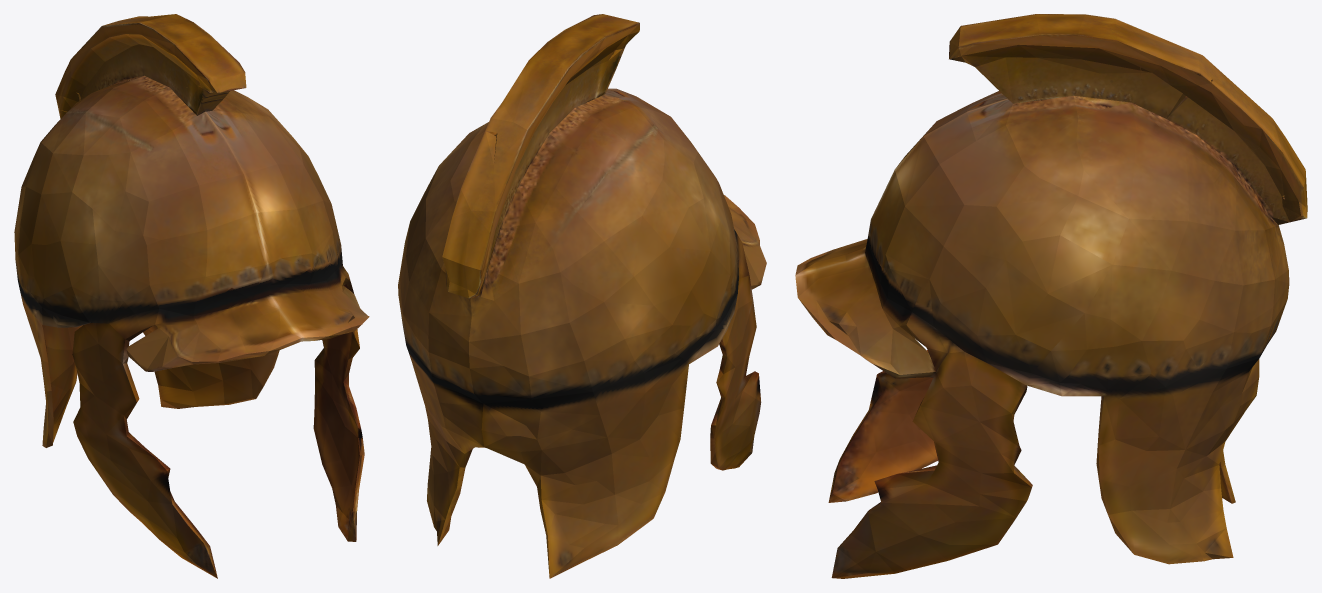
The model's file is Roman_Glory_0513160422_texture.fbx.
3 renders of one model, left to right at view 1: azimuth 30°, elevation 25°; view 2: azimuth 150°, elevation 25°; view 3: azimuth 270°, elevation 25°, orthographic. The views are drawn at different scales.
Visible parts, largest first — view 1: temp; view 2: temp; view 3: temp.
Boxes of the visible parts, x1=… form: temp: x1=14, y1=14, x2=369, y2=578; temp: x1=398, y1=14, x2=766, y2=578; temp: x1=795, y1=14, x2=1307, y2=578.
Bounding box in the file's own units: 128 × 200 × 180.
1 material, 1 textured.
